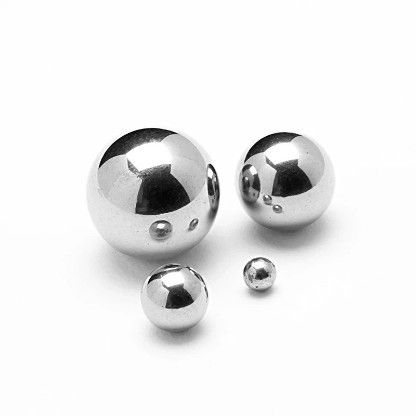ironball: (85, 126, 219, 260), (235, 131, 335, 231), (139, 262, 209, 332), (242, 256, 276, 290)
